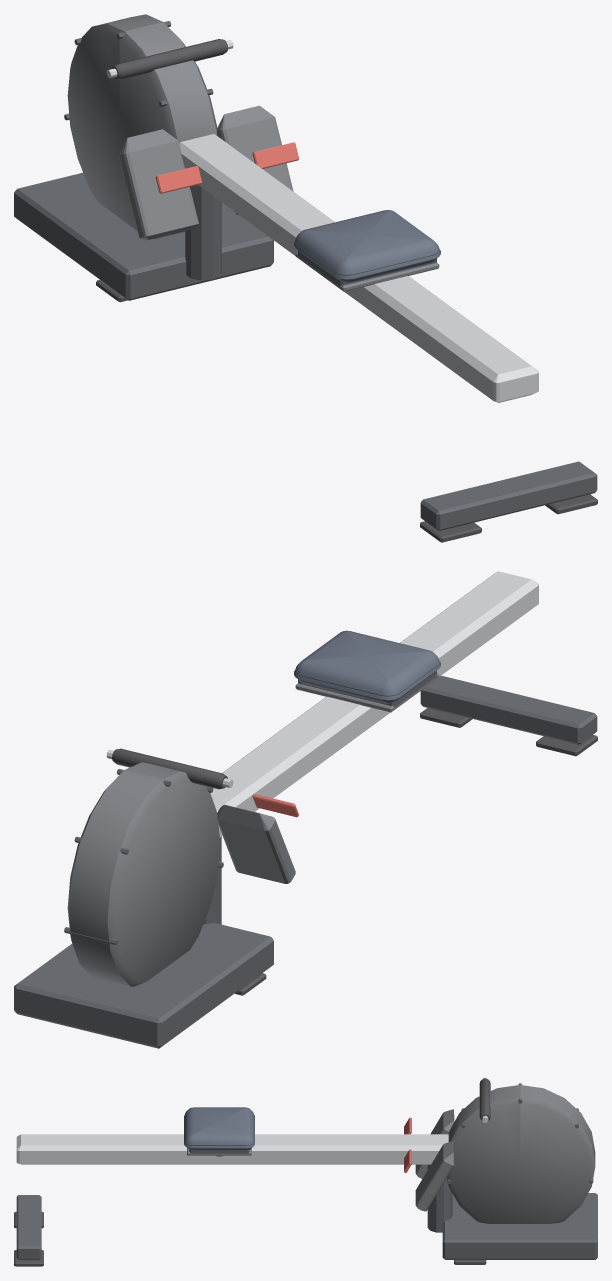
File: rowing_machine.glb
3 renders of one model, top to bottom at view 1: azimuth 30°, elevation 25°; view 2: azimuth 150°, elevation 25°; view 3: azimuth 270°, elevation 25°, orthographic. The views are drawn at different scales.
Visible parts, largest first — view 1: rowing-machine, row-seat/pad, row-seat/dark; view 2: rowing-machine, row-seat/pad, row-seat/dark; view 3: rowing-machine, row-seat/pad, row-seat/dark.
Part boxes in pixels (box(x1,y1,x2,y2)): rowing-machine: box(14, 14, 597, 542); row-seat/pad: box(294, 210, 440, 283); row-seat/dark: box(295, 252, 439, 291); rowing-machine: box(14, 571, 597, 1048); row-seat/pad: box(294, 630, 440, 703); row-seat/dark: box(295, 672, 439, 712); rowing-machine: box(14, 1077, 597, 1266); row-seat/pad: box(184, 1107, 254, 1149); row-seat/dark: box(187, 1148, 251, 1156).
Bounding box in the file's own units: 0.4999 × 0.66 × 2.33.
